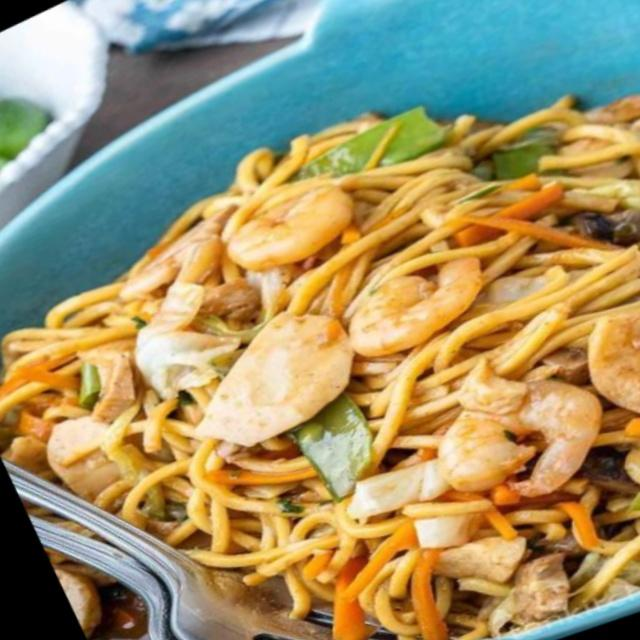pancit bihon: (0, 92, 639, 599)
